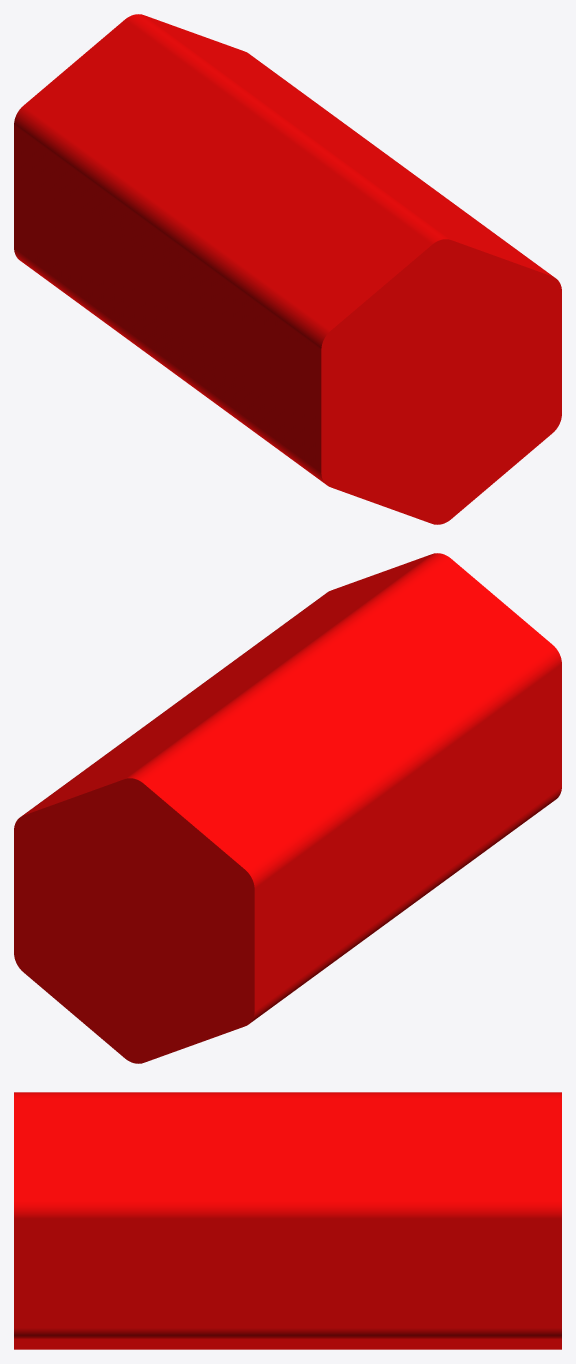
File: peg_hex.obj
The picture shows the model from 3 angles, top to bottom: view 1: azimuth 30°, elevation 25°; view 2: azimuth 150°, elevation 25°; view 3: azimuth 270°, elevation 25°; orthographic projection. The views are drawn at different scales.
Parts seen in each view (by area): view 1: mesh10, mesh1, mesh3, mesh13, mesh2, mesh0, mesh4; view 2: mesh9, mesh1, mesh3, mesh13, mesh2, mesh0, mesh4; view 3: mesh11, mesh13, mesh12, mesh7, mesh8, mesh0.
Boxes of the visible parts, box(x1,y1,x2,y2) form: mesh10: box(321, 239, 561, 524); mesh1: box(23, 20, 431, 330); mesh3: box(14, 125, 321, 471); mesh13: box(144, 15, 551, 276); mesh2: box(14, 106, 330, 349); mesh0: box(125, 14, 450, 244); mesh4: box(14, 248, 324, 483); mesh9: box(14, 778, 254, 1063); mesh1: box(144, 559, 552, 869); mesh3: box(254, 664, 561, 1010); mesh13: box(24, 554, 431, 815); mesh2: box(245, 645, 561, 888); mesh0: box(125, 553, 450, 783); mesh4: box(251, 787, 561, 1022); mesh11: box(14, 1218, 561, 1327); mesh13: box(14, 1100, 561, 1199); mesh12: box(14, 1199, 561, 1218); mesh7: box(14, 1339, 561, 1349); mesh8: box(14, 1328, 561, 1338); mesh0: box(14, 1092, 561, 1100).
Size of the model in its own units: 0.0452 by 0.0511 by 0.1.
